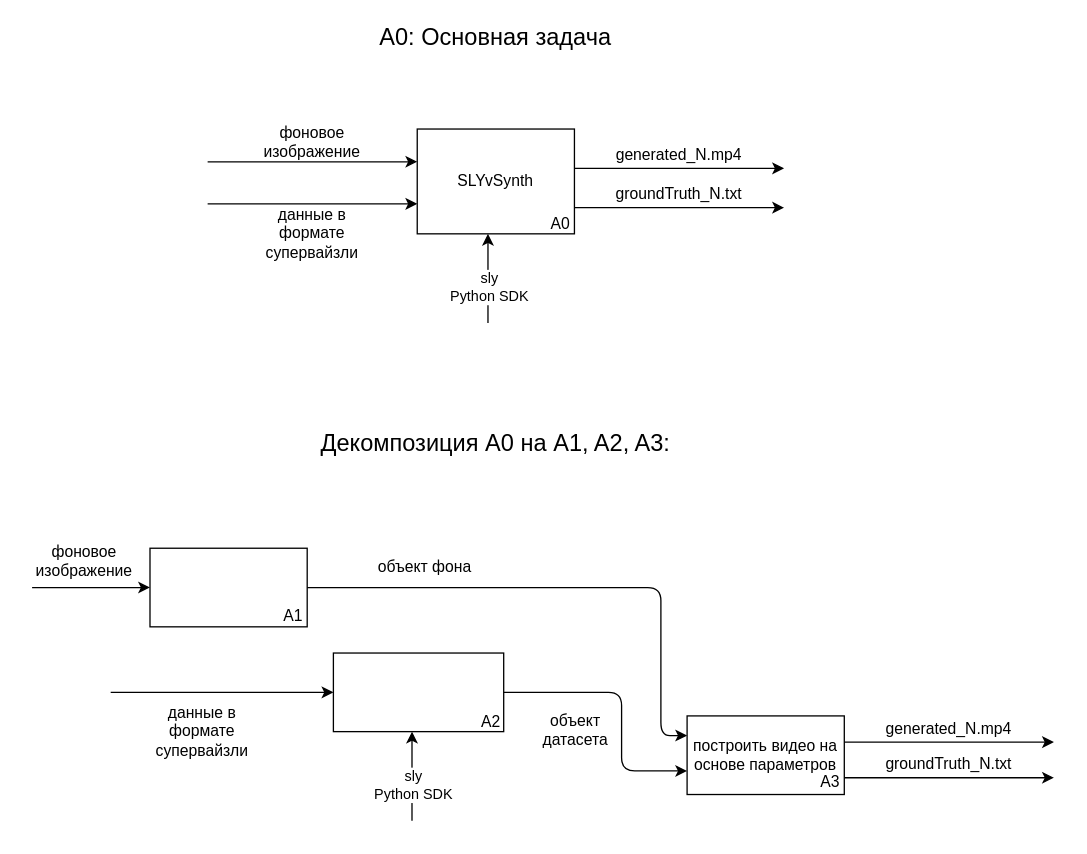
Some shapes in this 1087 by 854 pixel diagram are drawn without their labels. Here are the shapes that lost their labels. From the top down, the box of each, then its label:
(149, 547, 307, 627): инициализировать фон
(332, 652, 504, 732): инициализировать датасет
